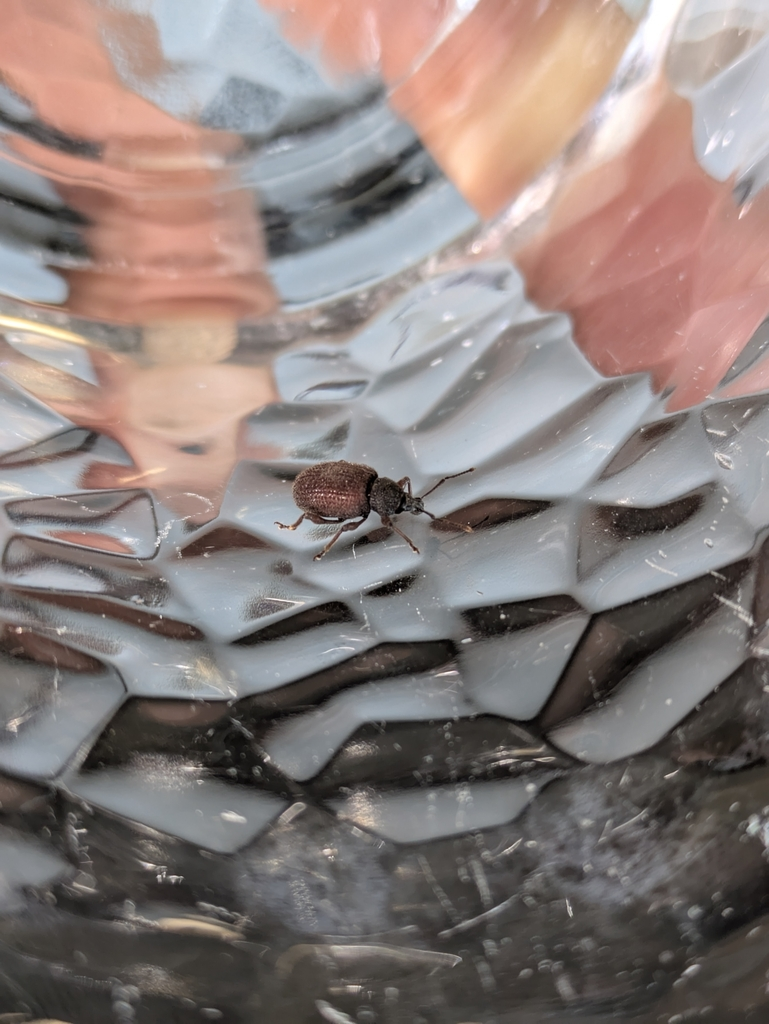weevils: (227, 410, 528, 602)
